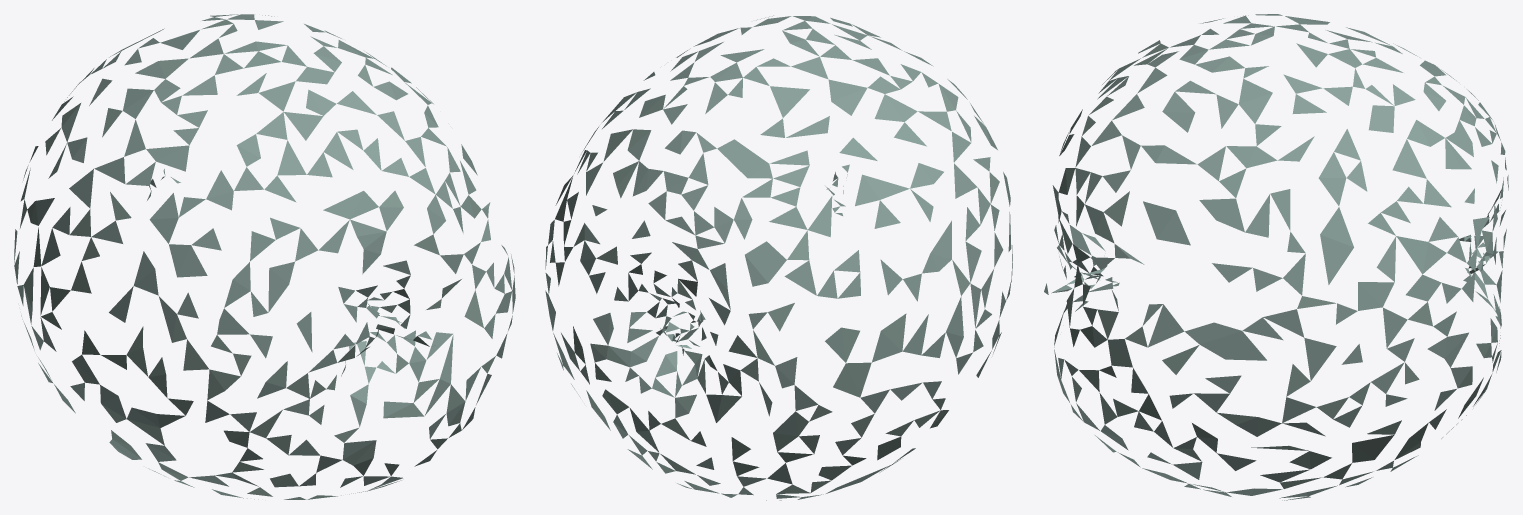
The model's file is food_produce_apple_j01.glb.
3 views of the same model, side by side, from view 1: azimuth 30°, elevation 25°; view 2: azimuth 150°, elevation 25°; view 3: azimuth 270°, elevation 25° (orthographic). The views are drawn at different scales.
Parts seen in each view (by area): view 1: geometry_0; view 2: geometry_0; view 3: geometry_0.
Boxes of the visible parts, box(x1,y1,x2,y2) form: geometry_0: box(14, 14, 515, 499); geometry_0: box(545, 15, 1012, 500); geometry_0: box(1044, 14, 1508, 500).
Size of the model in its own units: 0.4687 by 0.48 by 0.4708.
